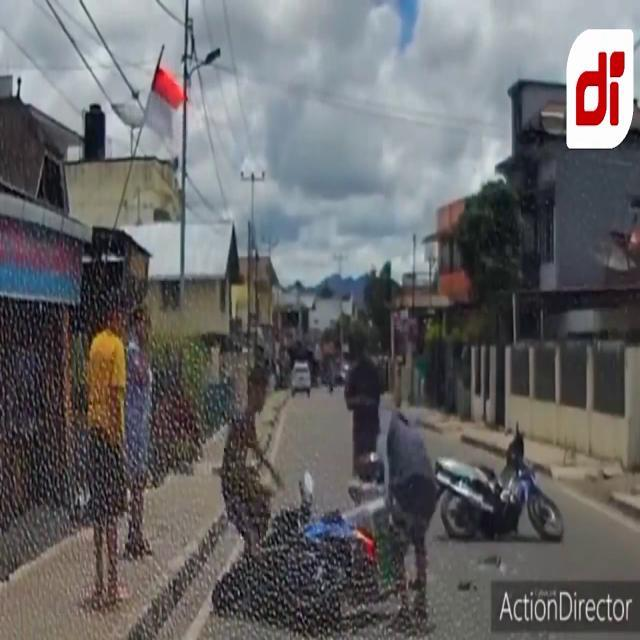multiple_accident: (121, 324, 640, 636)
